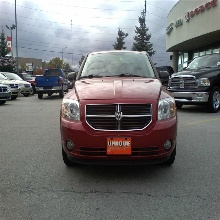no damage: (60, 50, 179, 170), (168, 55, 220, 113), (34, 66, 70, 101)
